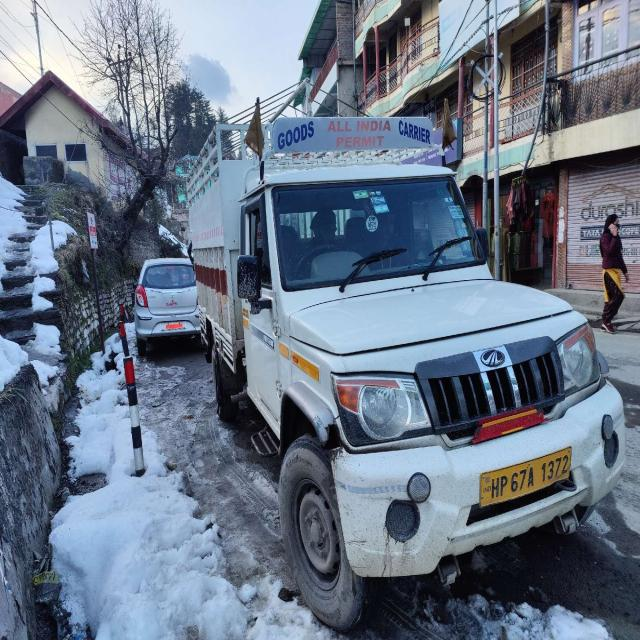light_vehicle: (226, 156, 622, 521)
